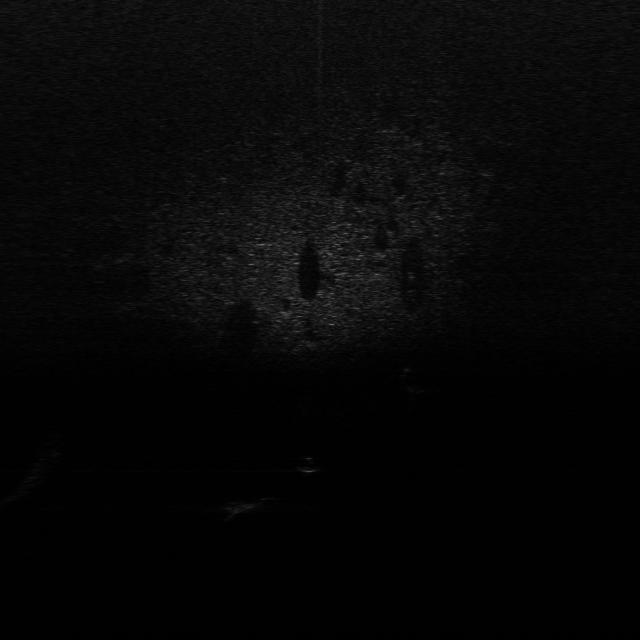ball: (293, 453, 323, 474)
square cage: (216, 492, 276, 516)
tyre: (397, 367, 428, 396)
